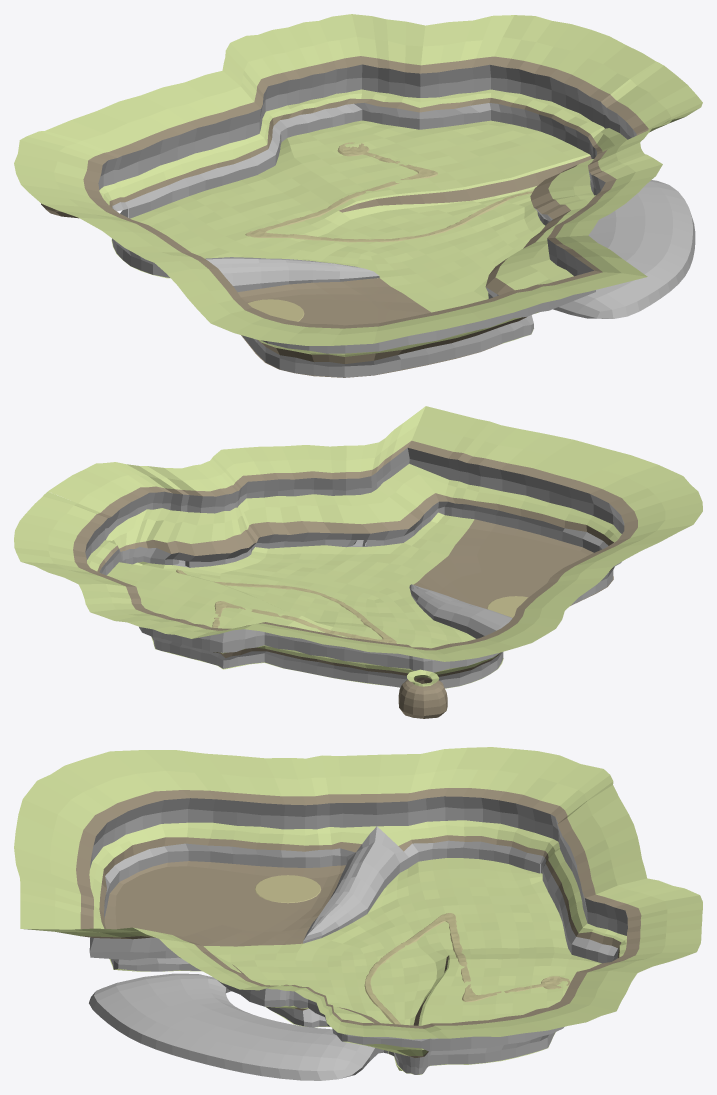
File: TerrainTest10.fbx
The picture shows the model from 3 angles, top to bottom: view 1: azimuth 30°, elevation 25°; view 2: azimuth 150°, elevation 25°; view 3: azimuth 270°, elevation 25°; orthographic projection. The views are drawn at different scales.
Parts seen in each view (by area): view 1: TerrainTest10; view 2: TerrainTest10; view 3: TerrainTest10.
Boxes of the visible parts, x1=… form: TerrainTest10: x1=14, y1=14, x2=702, y2=377; TerrainTest10: x1=14, y1=406, x2=702, y2=718; TerrainTest10: x1=14, y1=747, x2=702, y2=1080.
Bounding box in the file's own units: 1179 × 147 × 1176.
